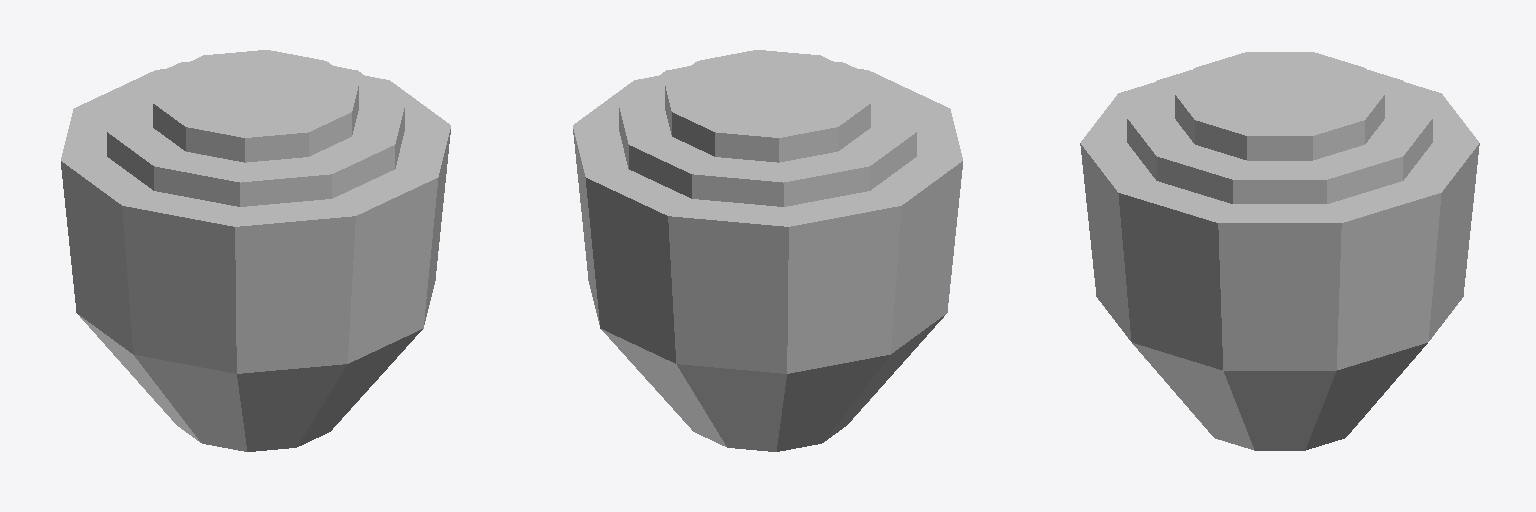
Rendered from collider.obj.
3 views of the same model, side by side, from view 1: azimuth 30°, elevation 25°; view 2: azimuth 150°, elevation 25°; view 3: azimuth 270°, elevation 25° (orthographic).
Parts seen in each view (by area): view 1: Collider; view 2: Collider; view 3: Collider.
Part boxes in pixels (x1,y1,x2,y2): Collider: (61, 50, 450, 451); Collider: (573, 50, 962, 451); Collider: (1080, 52, 1479, 450).
Size of the model in its own units: 2.11 by 1.98 by 2.21.